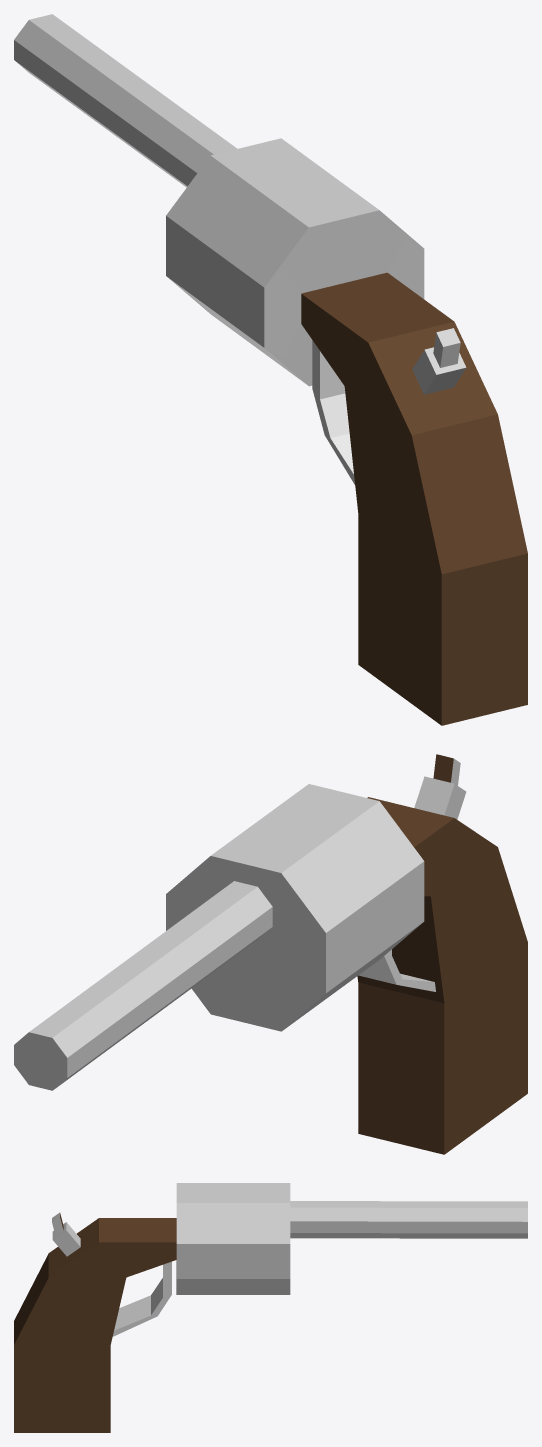
The model's file is Revolver.fbx.
3 renders of one model, top to bottom at view 1: azimuth 30°, elevation 25°; view 2: azimuth 150°, elevation 25°; view 3: azimuth 270°, elevation 25°, orthographic. The views are drawn at different scales.
Parts seen in each view (by area): view 1: Cube, Cube.001, Cube.002, Cube.003, Cube.004; view 2: Cube, Cube.001, Cube.002, Cube.004, Cube.003; view 3: Cube, Cube.001, Cube.002, Cube.003, Cube.004.
Part boxes in pixels (x1,y1,x2,y2): Cube: [301, 272, 527, 725]; Cube.001: [166, 138, 424, 386]; Cube.002: [14, 14, 237, 187]; Cube.003: [312, 340, 355, 485]; Cube.004: [412, 328, 466, 394]; Cube: [357, 754, 527, 1154]; Cube.001: [166, 784, 424, 1031]; Cube.002: [14, 881, 272, 1090]; Cube.004: [414, 758, 466, 819]; Cube.003: [358, 949, 435, 991]; Cube: [14, 1213, 176, 1432]; Cube.001: [176, 1183, 290, 1294]; Cube.002: [290, 1201, 527, 1238]; Cube.003: [112, 1261, 171, 1336]; Cube.004: [52, 1212, 80, 1256].
Size of the model in its own units: 116 by 273 by 559.
